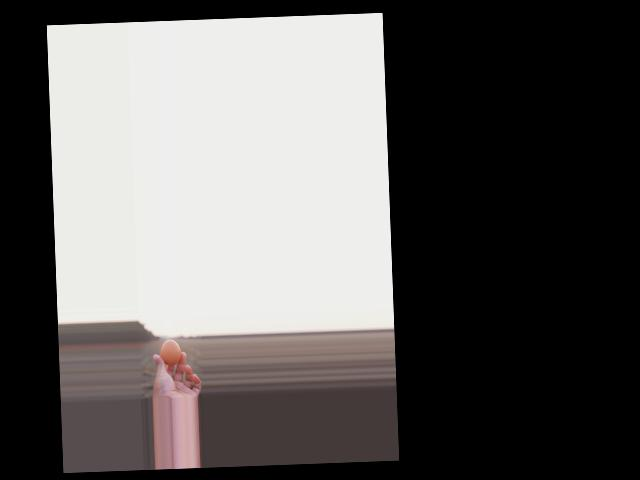egg: (160, 339, 181, 365)
